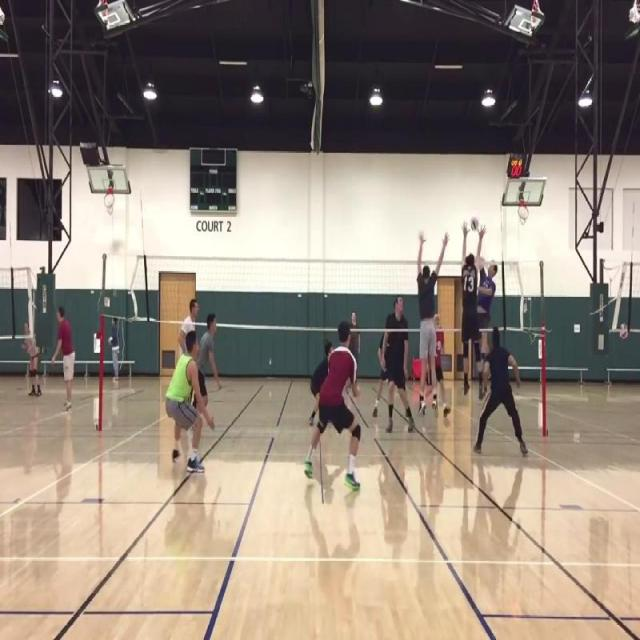volleyball: (470, 216, 478, 230)
